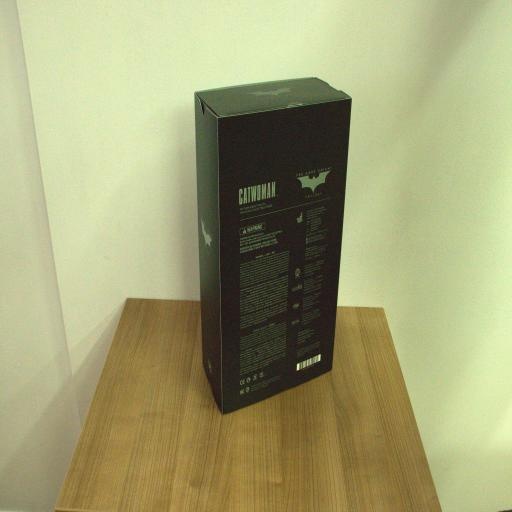catwoman: (194, 76, 354, 412)
